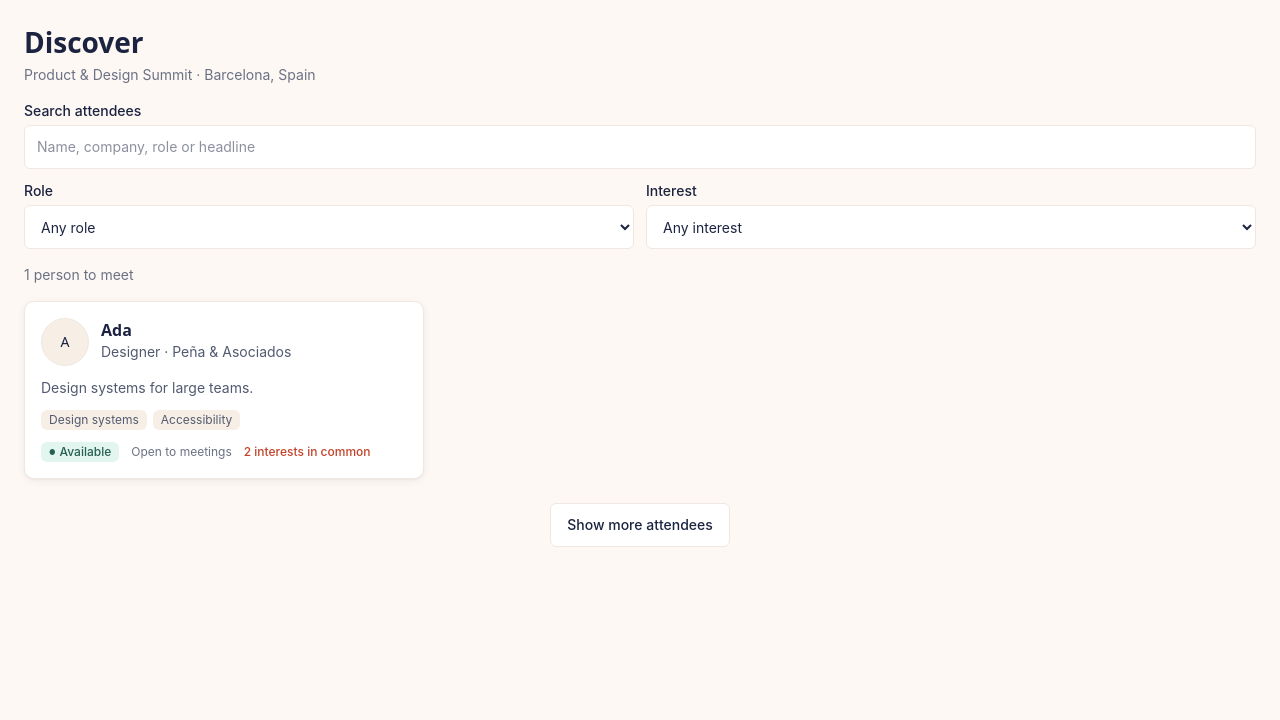
Test: Discover: paging never shows the same person twice (FR-410a, SC-403a) › appends a further page
The width and height of the screenshot is (1280, 720).
Expected: the link "Ada" is shown, [101, 319, 132, 341]
Click the button "Show more attendees": (640, 525) [550, 503, 730, 547]
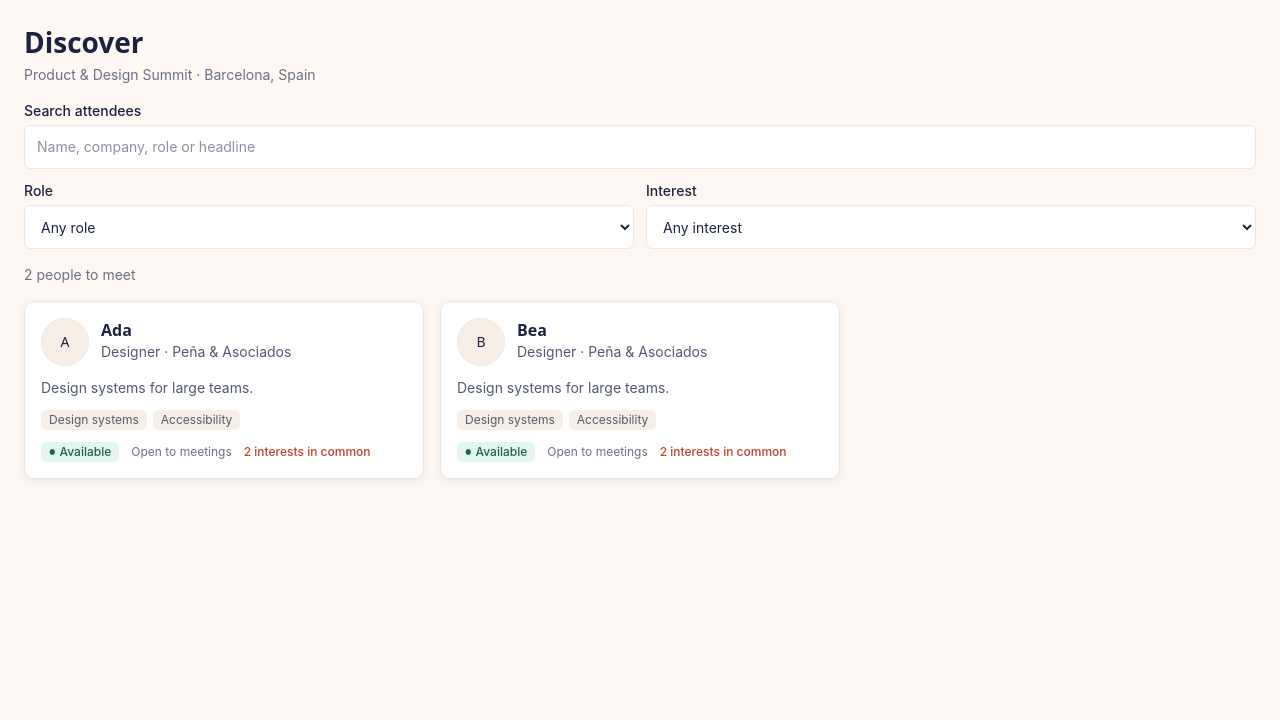
Expected: the link "Ada" is shown, [101, 319, 132, 341]
Now the link "Bea" is shown, box [517, 319, 547, 341]
Now the button "Show more attendees" is gone
